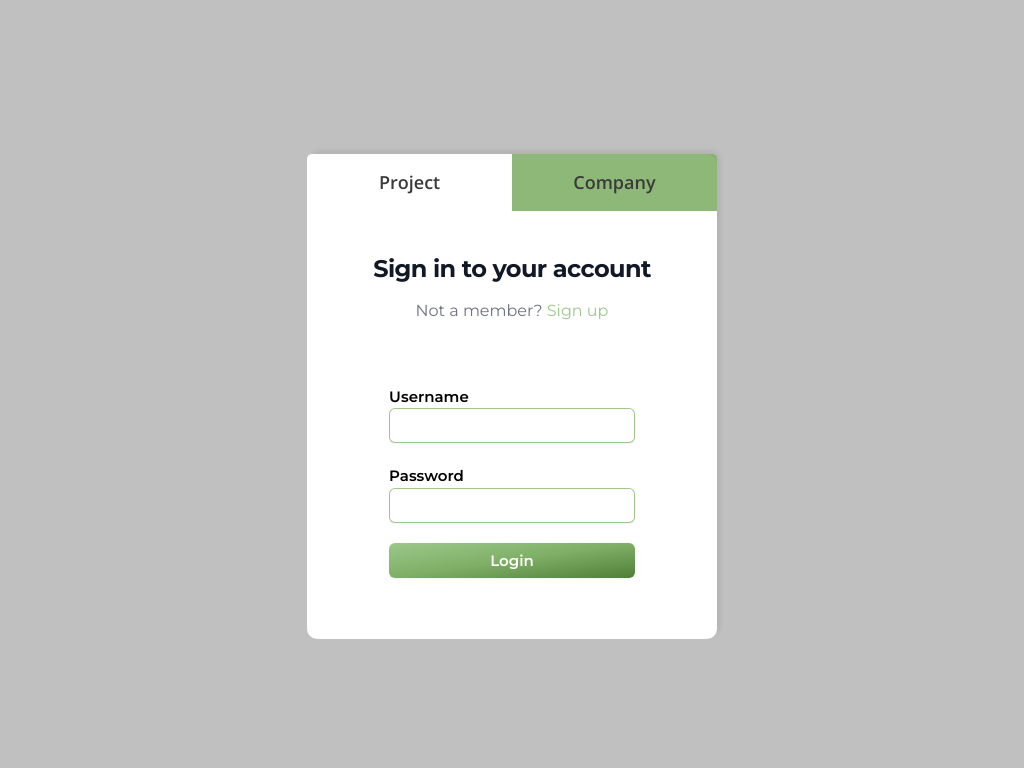
Test case: LoginForm › handles login failure
The width and height of the screenshot is (1024, 768).
Type "testuser" into the field labelled "Username" at (512, 426), box x1=389 y1=408 x2=635 y2=443
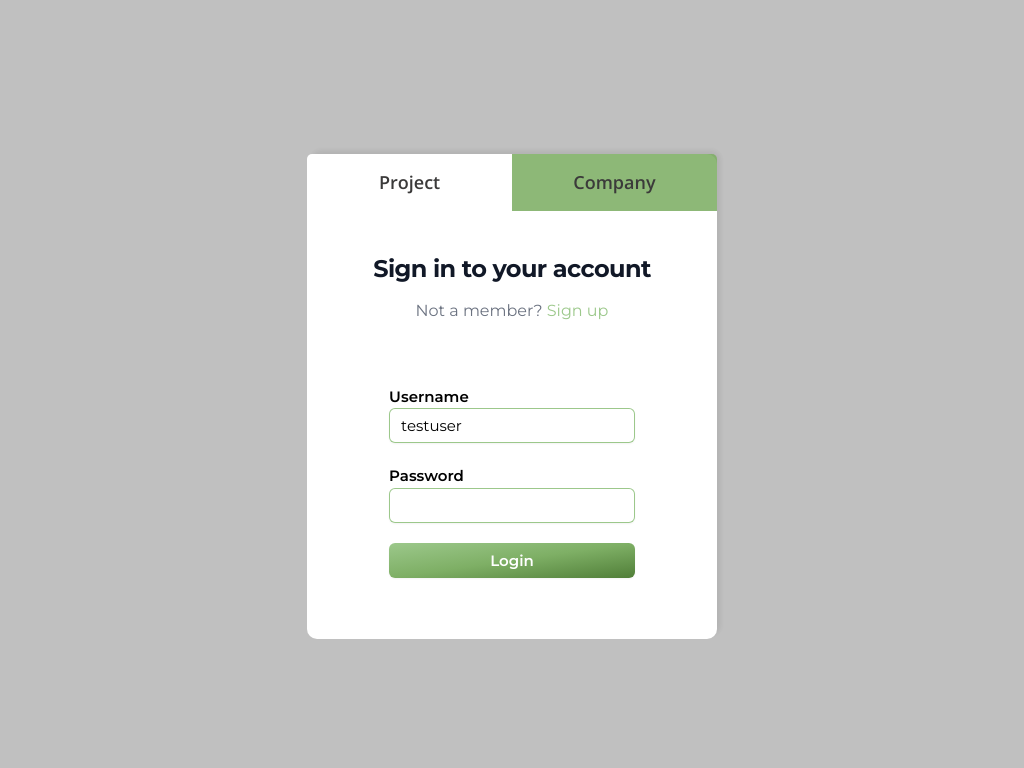
Type "testpassword" into the password field labelled "Password" at (512, 505), box x1=389 y1=488 x2=635 y2=522
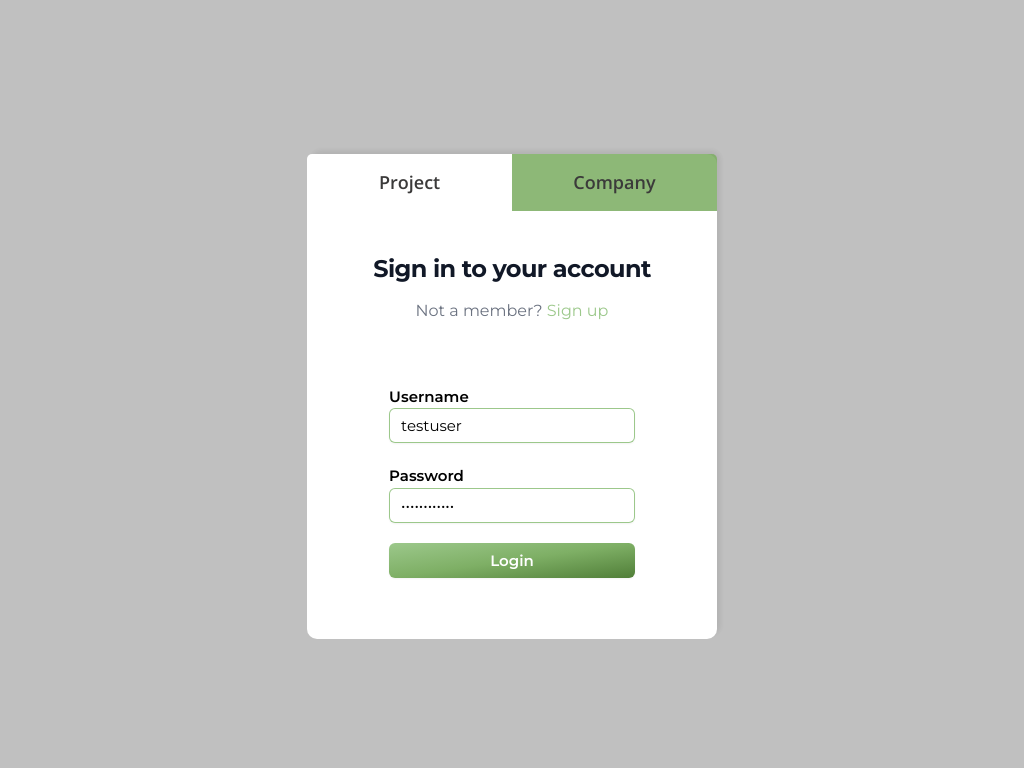
Submit the form from the button "Login", box x1=389 y1=542 x2=635 y2=578
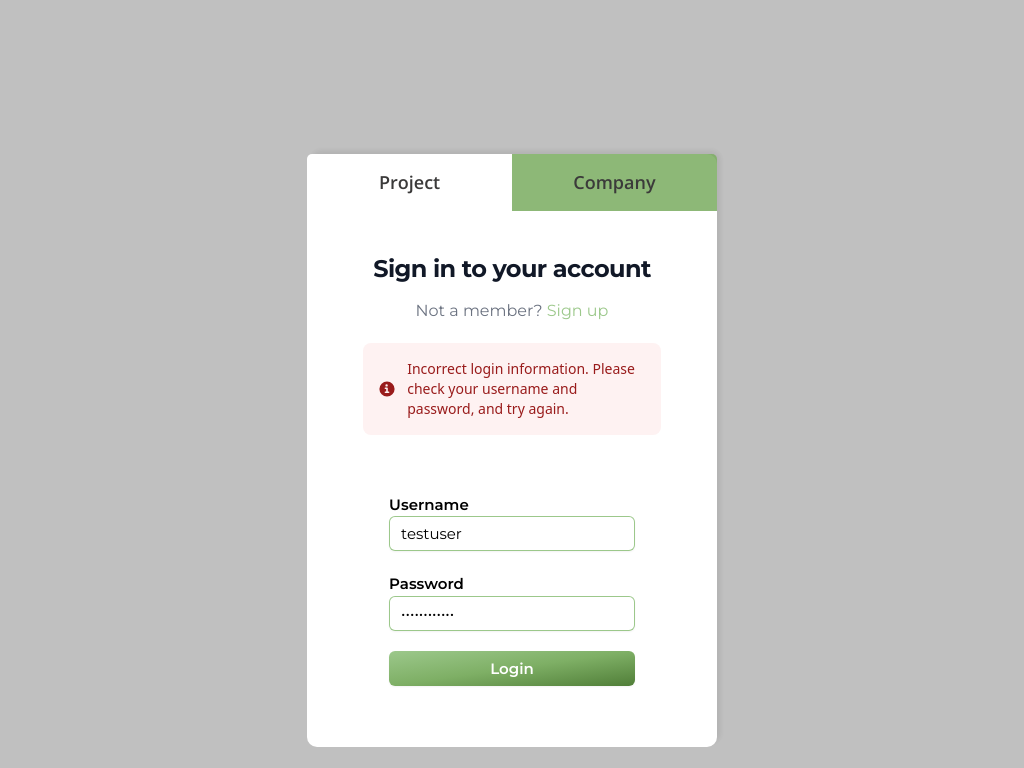
Expected: the text "Incorrect login information. Please check your username and password, and try again." is shown, x1=407 y1=359 x2=635 y2=418
